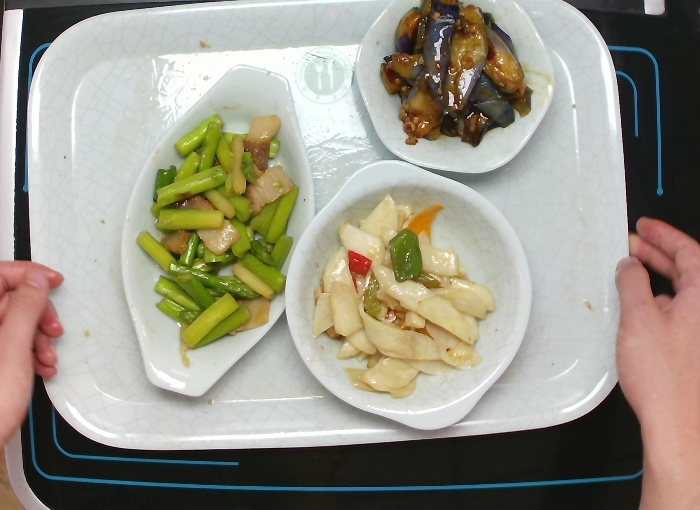JYsf-Shuang_Er_Wan: (280, 157, 533, 434)
JYsf-Yu_Pan: (117, 58, 323, 406)
WCQzf-Hua_Duo_Wan: (350, 1, 556, 178)
